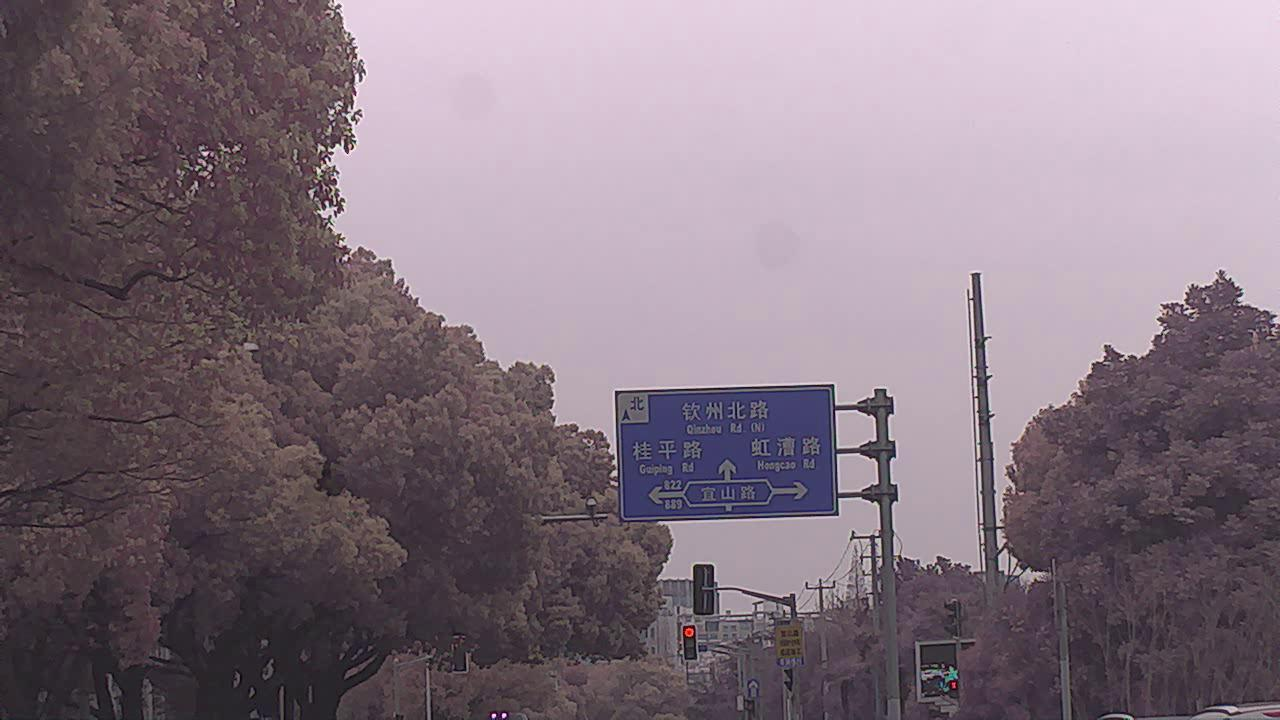traffic_light: (683, 622, 702, 660)
